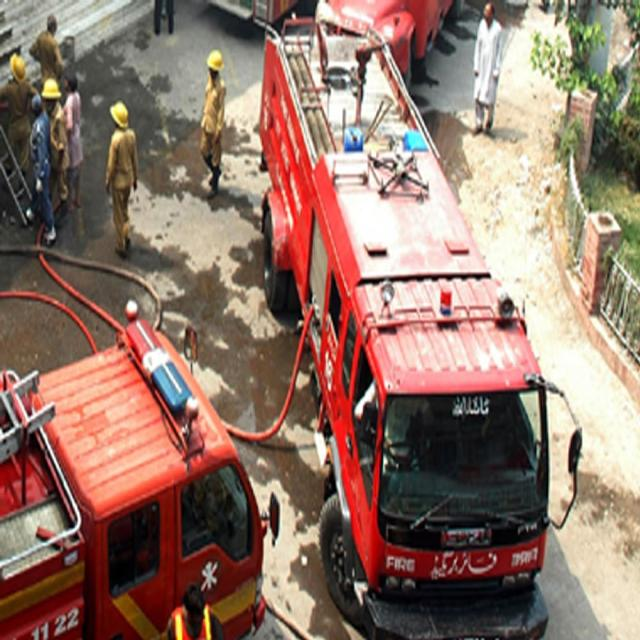emergency: (260, 21, 549, 636), (0, 302, 279, 639)
